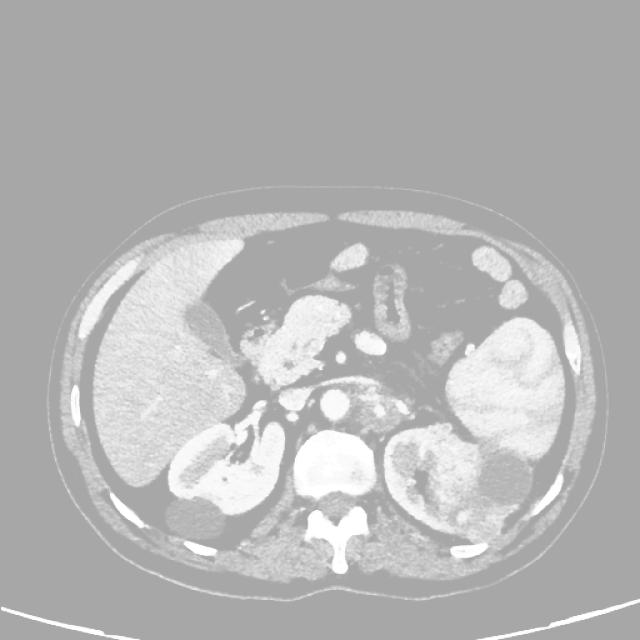TUMOR: (143, 243, 561, 548)
